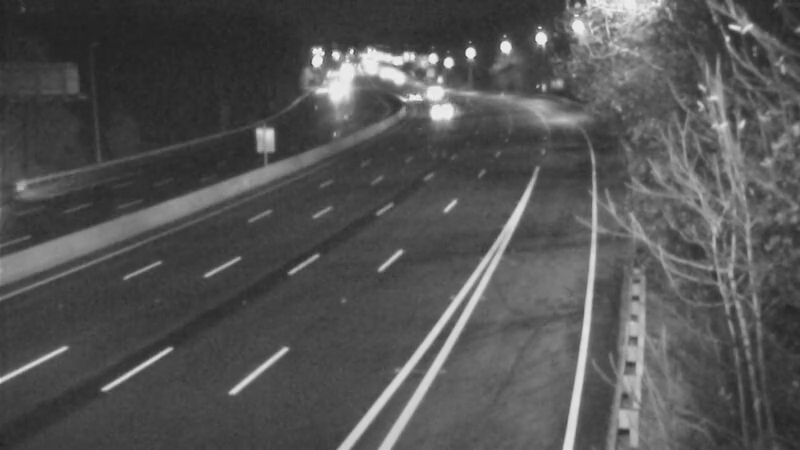vehicle: (405, 64, 455, 114), (383, 71, 433, 121), (421, 84, 471, 134)
